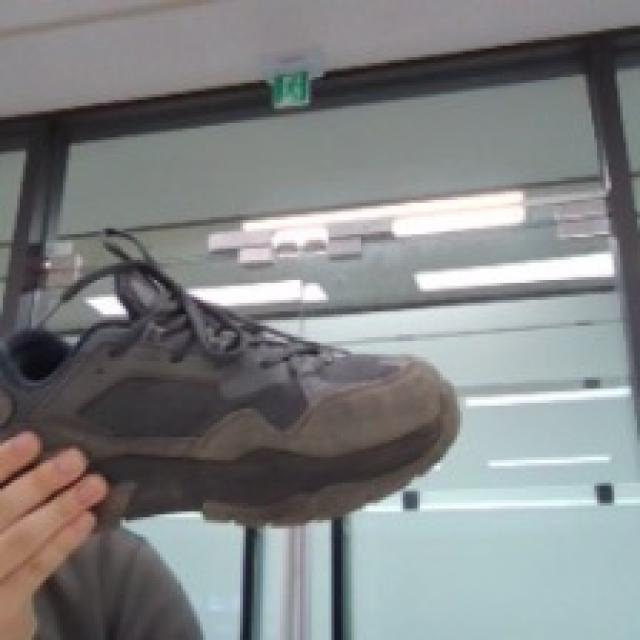shoe: (0, 222, 466, 525)
